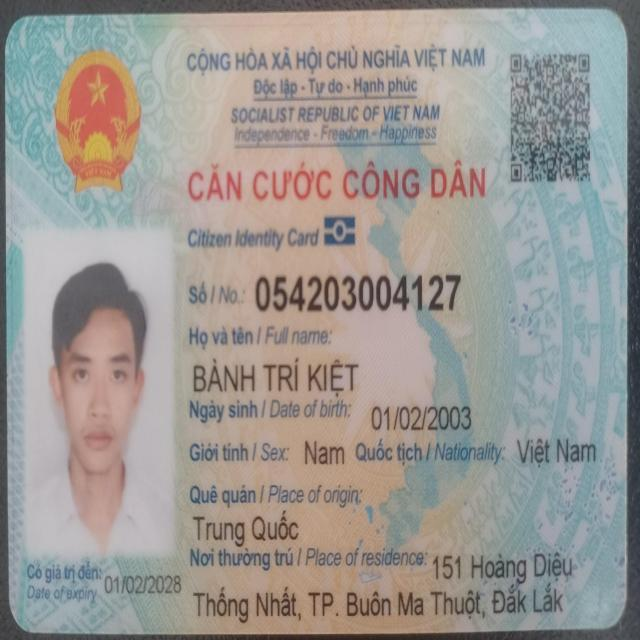current_place: (192, 579, 566, 624), (430, 546, 574, 584)
dob: (371, 398, 477, 434)
expire_date: (104, 567, 181, 600)
gender: (303, 437, 344, 472)
id: (251, 267, 465, 318)
name: (190, 355, 365, 401)
nationality: (514, 434, 598, 470)
origin_place: (190, 508, 302, 548)
qr: (508, 46, 598, 199)
